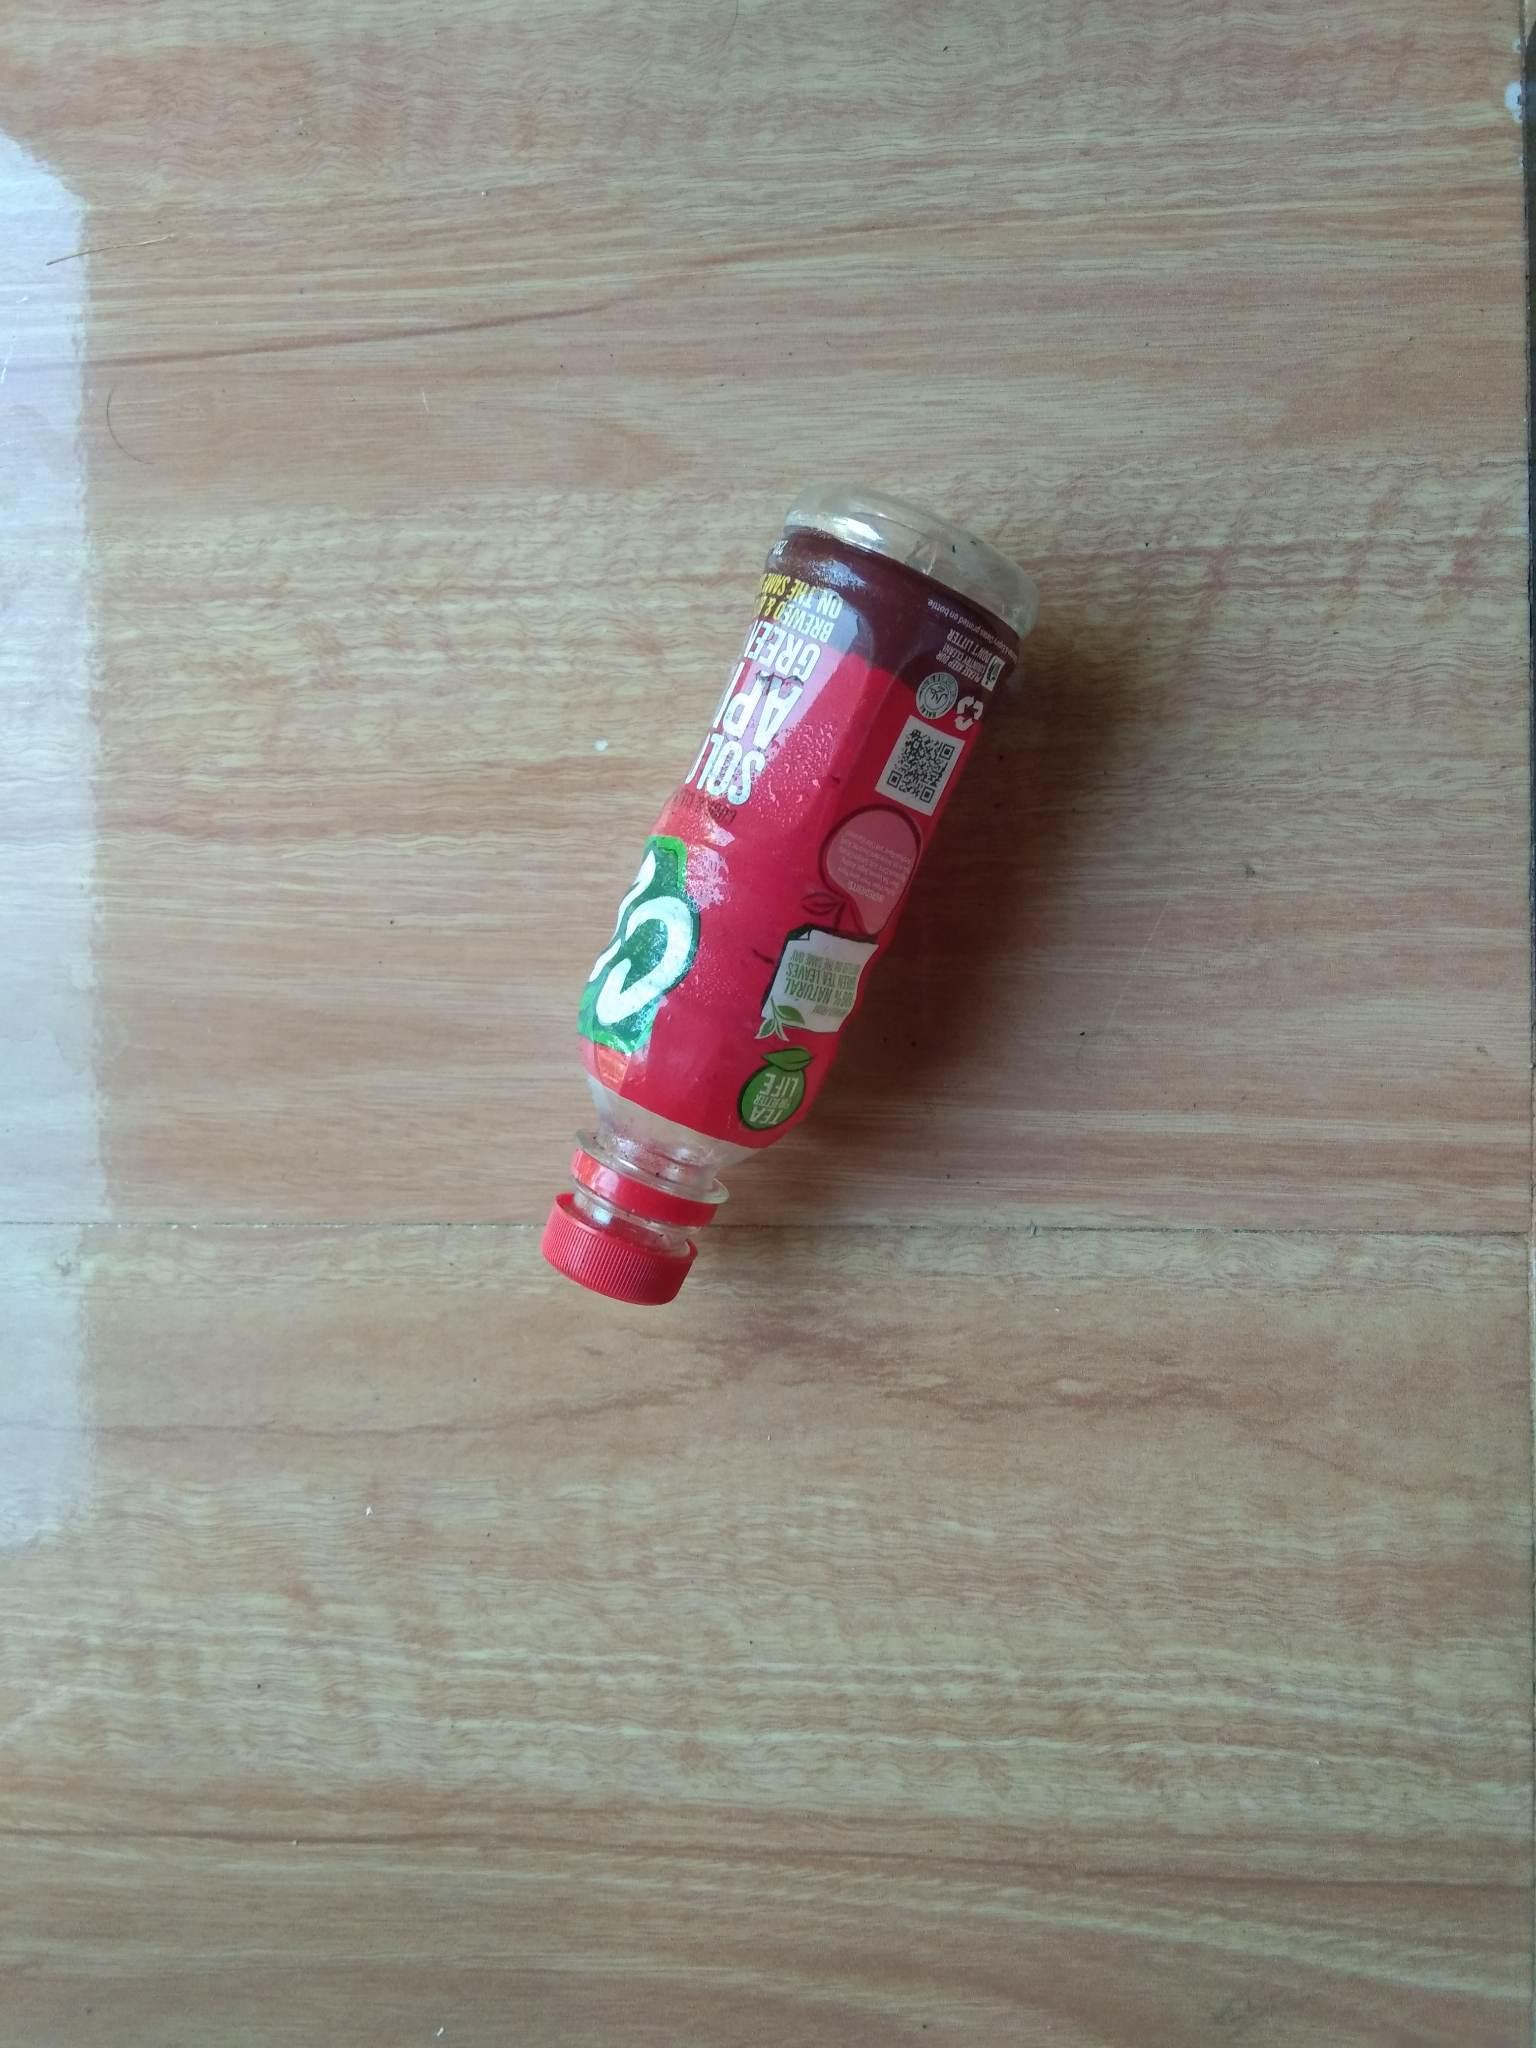plastic: (447, 434, 1086, 1384)
